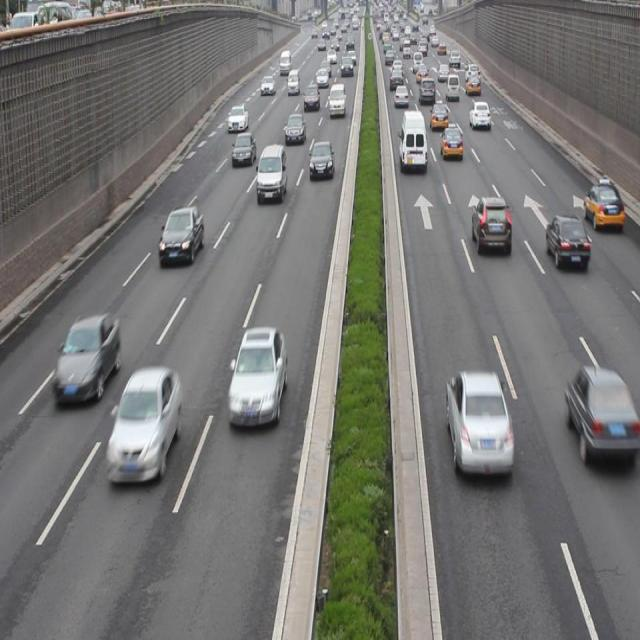car: (108, 368, 181, 483), (446, 370, 514, 486), (567, 362, 630, 468), (228, 328, 284, 429), (54, 318, 120, 400), (158, 210, 203, 268), (544, 214, 588, 272), (470, 198, 510, 256), (581, 180, 624, 230), (256, 146, 286, 201), (309, 142, 334, 180), (440, 123, 462, 160), (232, 134, 256, 167), (468, 100, 490, 130), (285, 114, 304, 144)
truck: (400, 110, 426, 171)
